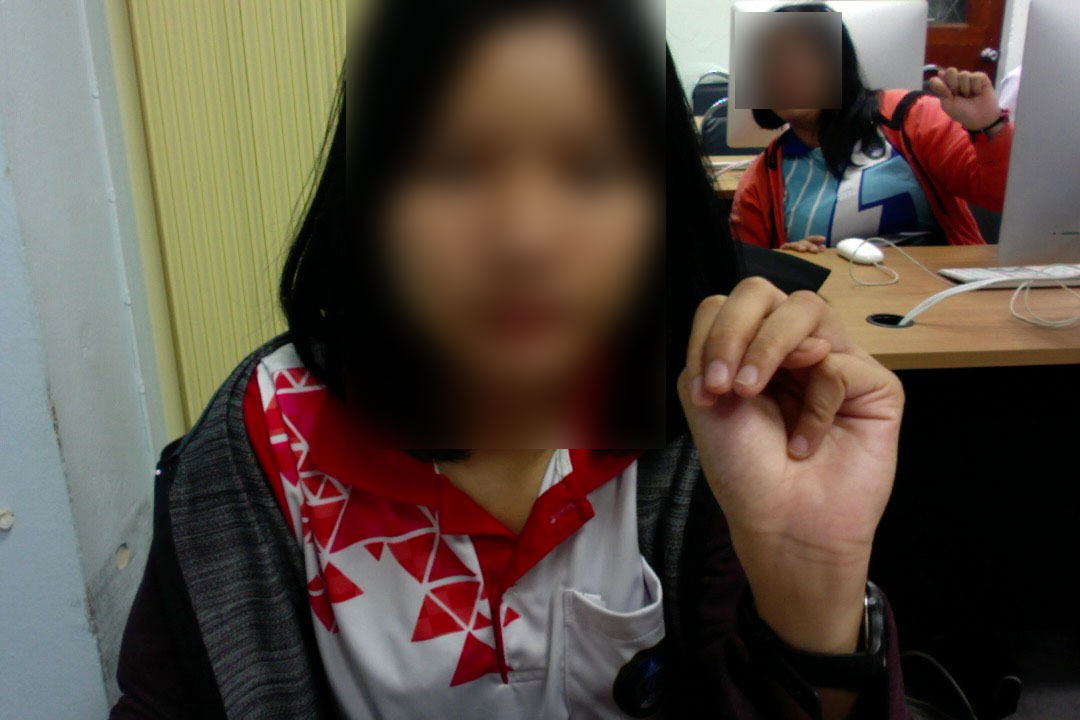mor: (662, 271, 922, 567)
